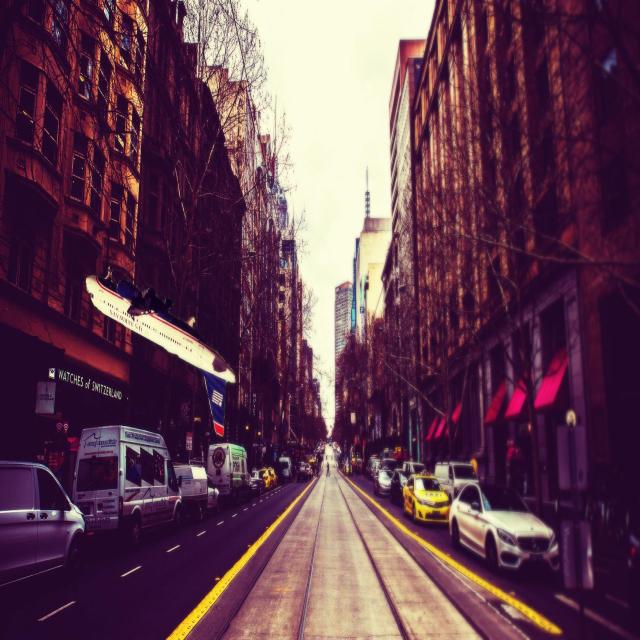airplane: (84, 264, 236, 438)
